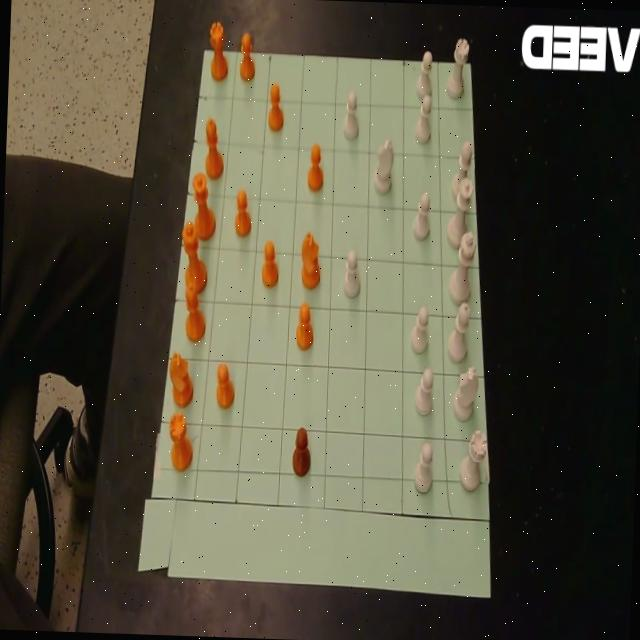orange_bishop: (183, 282, 207, 342), (203, 116, 225, 180)
orange_king: (180, 219, 208, 295)
orange_knight: (168, 350, 194, 407), (299, 228, 321, 288)
orange_pawn: (292, 426, 312, 476), (214, 361, 234, 408), (295, 299, 314, 348), (306, 140, 324, 190), (238, 30, 256, 80), (234, 187, 252, 236), (260, 239, 278, 286), (267, 83, 284, 131)
orange_queen: (191, 170, 217, 242)
orange_rook: (168, 412, 195, 471), (208, 20, 229, 81)
white_bishop: (446, 304, 471, 364), (452, 140, 473, 202)
white_king: (448, 230, 476, 302)
white_knight: (452, 364, 478, 422)
white_pawn: (413, 439, 434, 494), (374, 136, 394, 193), (413, 366, 434, 416), (410, 305, 430, 355), (342, 246, 360, 297), (342, 89, 360, 140), (414, 93, 432, 143), (416, 48, 433, 98), (412, 198, 430, 236)
white_queen: (446, 182, 471, 247)
white_rook: (459, 428, 487, 492), (446, 36, 468, 98)
